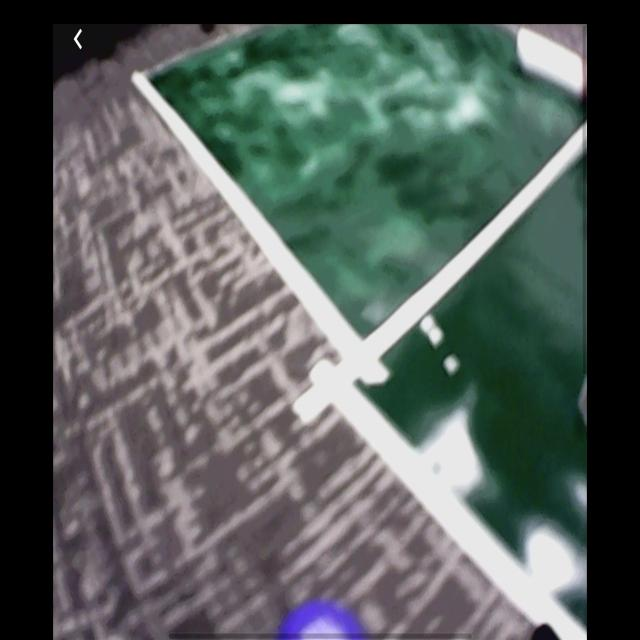ball: (280, 604, 374, 640)
